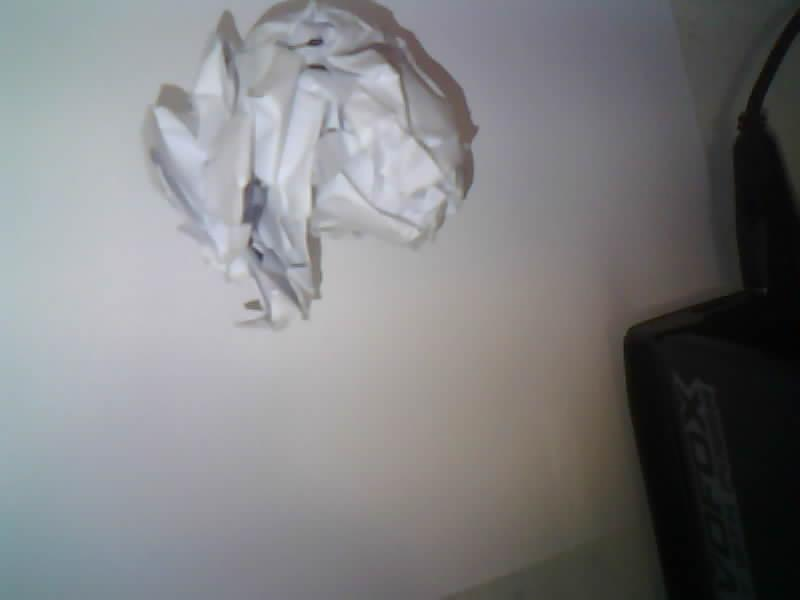biodegradable: (145, 0, 467, 324)
